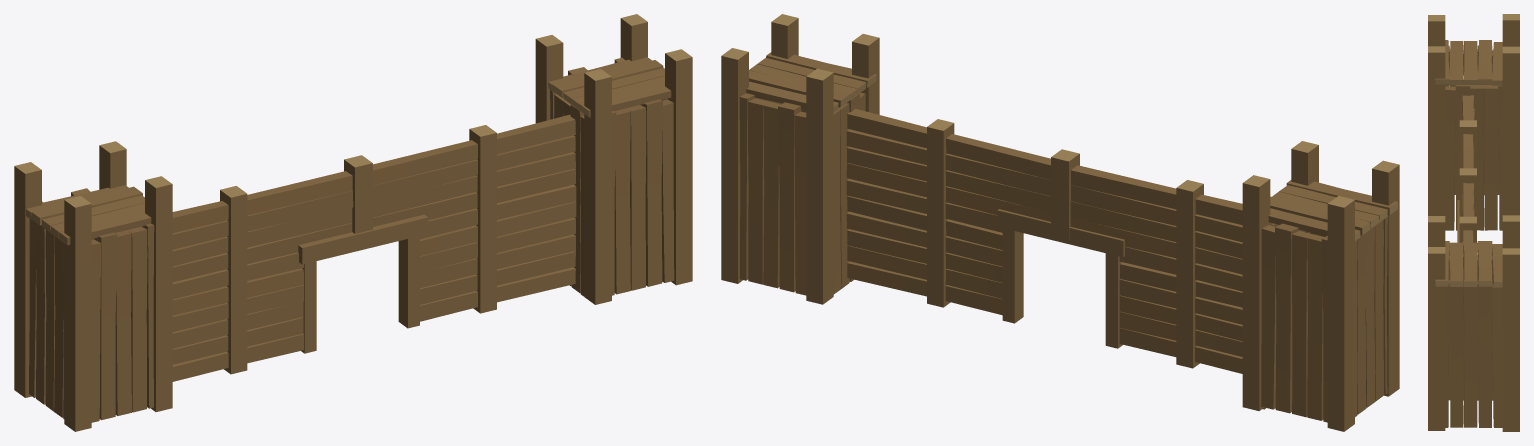
Rendered from WallTowers_Door_FirstAge.glb.
3 renders of one model, left to right at view 1: azimuth 30°, elevation 25°; view 2: azimuth 150°, elevation 25°; view 3: azimuth 270°, elevation 25°, orthographic. The views are drawn at different scales.
Visible parts, largest first — view 1: WallTowers_Door_FirstAge; view 2: WallTowers_Door_FirstAge; view 3: WallTowers_Door_FirstAge.
Boxes of the visible parts, x1=… form: WallTowers_Door_FirstAge: x1=14, y1=14, x2=692, y2=431; WallTowers_Door_FirstAge: x1=721, y1=14, x2=1399, y2=431; WallTowers_Door_FirstAge: x1=1428, y1=14, x2=1519, y2=431.
Bounding box in the file's own units: 1.94 × 0.6724 × 0.3134.
